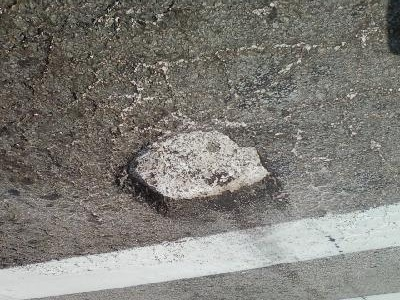pothole: (113, 121, 283, 220)
